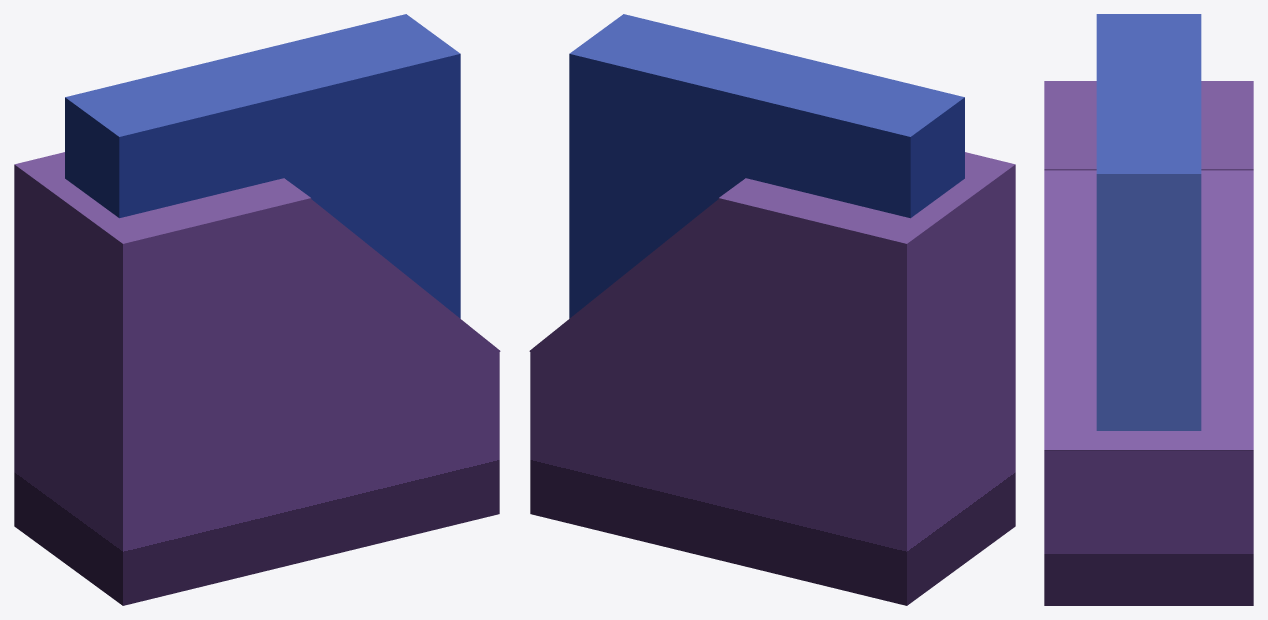
The model's file is FolderOrganizer.fbx.
3 renders of one model, left to right at view 1: azimuth 30°, elevation 25°; view 2: azimuth 150°, elevation 25°; view 3: azimuth 270°, elevation 25°, orthographic. The views are drawn at different scales.
Parts seen in each view (by area): view 1: cube, cube_2, cube_3, cube_1; view 2: cube, cube_3, cube_2, cube_1; view 3: cube_3, cube, cube_1, cube_2.
Part boxes in pixels (box(x1,y1,x2,y2)): cube: box(14, 351, 499, 605); cube_2: box(14, 152, 311, 457); cube_3: box(65, 14, 460, 318); cube_1: box(215, 199, 500, 428); cube: box(530, 353, 1015, 605); cube_3: box(569, 14, 964, 318); cube_2: box(718, 152, 1015, 457); cube_1: box(529, 199, 814, 473); cube_3: box(1096, 14, 1201, 430); cube: box(1044, 450, 1253, 605); cube_1: box(1044, 170, 1253, 450); cube_2: box(1044, 81, 1253, 170).
Size of the model in its own units: 50.14 by 56.25 by 25.
1 material, 1 textured.
